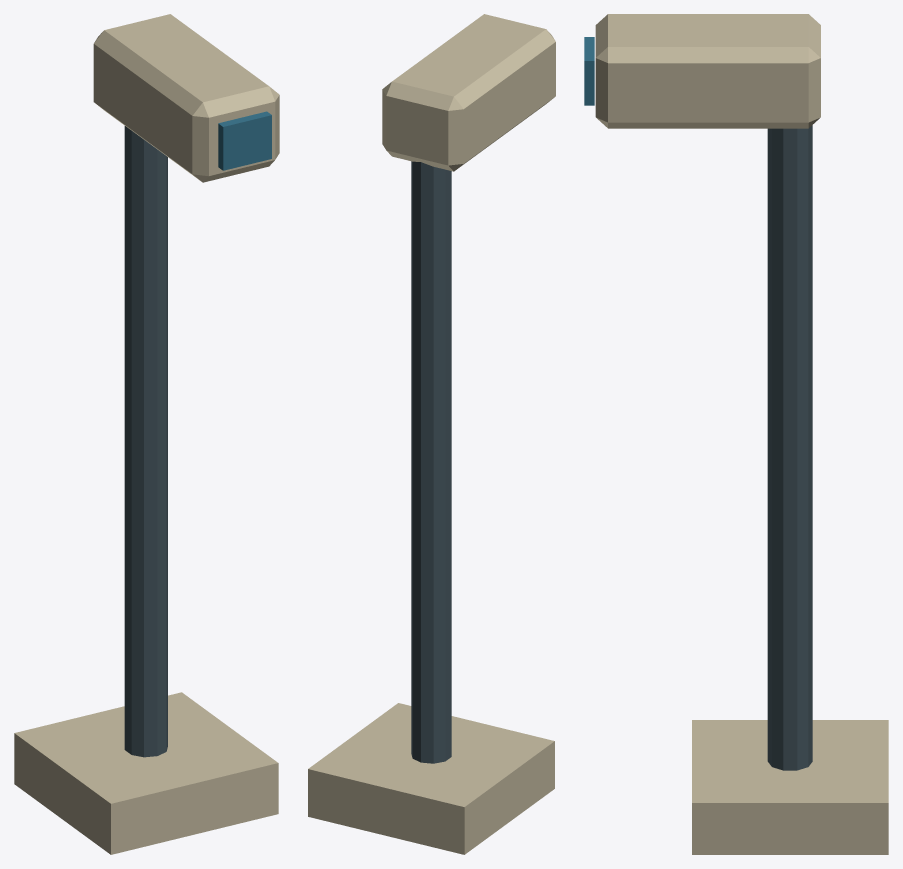
File: security_camera_post.glb
The picture shows the model from 3 angles, left to right: view 1: azimuth 30°, elevation 25°; view 2: azimuth 150°, elevation 25°; view 3: azimuth 270°, elevation 25°; orthographic projection. The views are drawn at different scales.
Visible parts, largest first — view 1: security_camera_post; view 2: security_camera_post; view 3: security_camera_post.
Part boxes in pixels (box(x1,y1,x2,y2)): security_camera_post: box(14, 14, 279, 854); security_camera_post: box(308, 14, 555, 854); security_camera_post: box(584, 14, 888, 854).
Bounding box in the file's own units: 0.48 × 2.11 × 0.7425.
